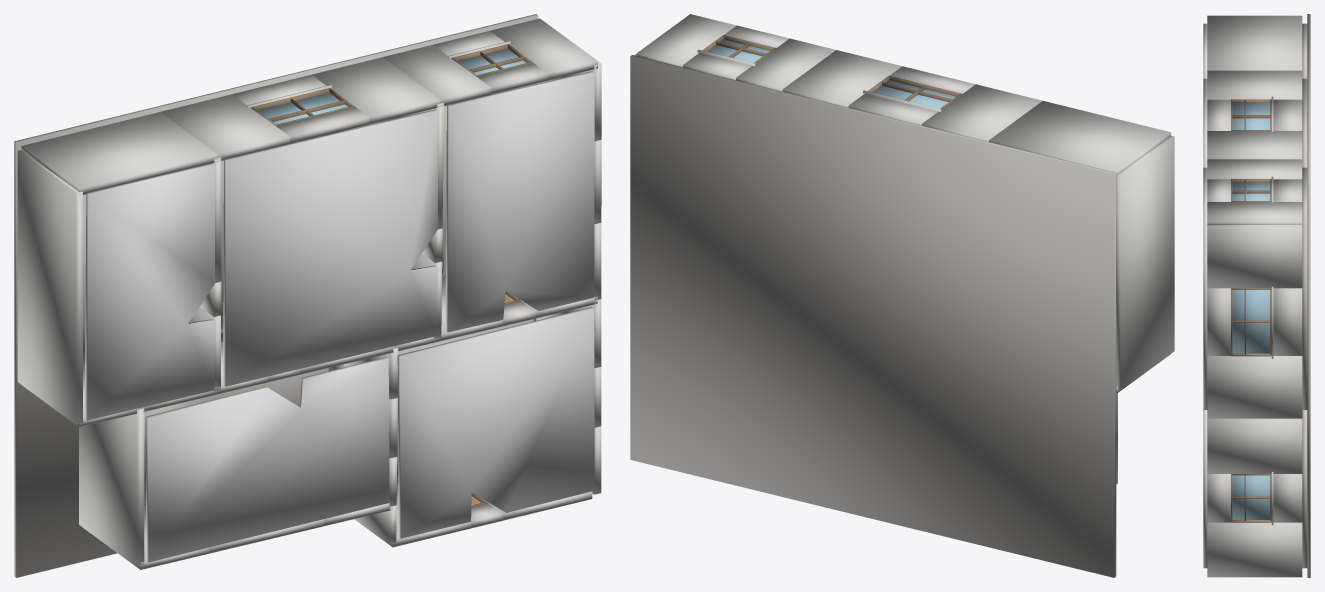
The model's file is blueprint4_scene.glb.
The picture shows the model from 3 angles, left to right: view 1: azimuth 30°, elevation 25°; view 2: azimuth 150°, elevation 25°; view 3: azimuth 270°, elevation 25°; orthographic projection. The views are drawn at different scales.
Parts seen in each view (by area): view 1: Ceilings, Walls, Plinth, Lintels, Floors, WindowGlasses, WindowFrames, WindowMullions; view 2: Plinth, Walls, Lintels, WindowGlasses, WindowFrames, WindowMullions; view 3: Walls, WindowGlasses, Lintels, Floors, Ceilings, Plinth, WindowFrames, WindowMullions, WindowSills.
Boxes of the visible parts, bbox=[...] form: Ceilings: bbox=[84, 71, 594, 562]; Walls: bbox=[17, 18, 601, 569]; Plinth: bbox=[14, 14, 538, 577]; Lintels: bbox=[200, 63, 601, 553]; Floors: bbox=[83, 84, 533, 504]; WindowGlasses: bbox=[257, 49, 526, 124]; WindowFrames: bbox=[250, 44, 532, 125]; WindowMullions: bbox=[269, 52, 523, 121]; Plinth: bbox=[630, 55, 1116, 577]; Walls: bbox=[634, 14, 1174, 484]; Lintels: bbox=[724, 25, 975, 93]; WindowGlasses: bbox=[707, 39, 955, 108]; WindowFrames: bbox=[702, 35, 961, 109]; WindowMullions: bbox=[716, 41, 952, 101]; Walls: bbox=[1207, 15, 1302, 577]; WindowGlasses: bbox=[1232, 103, 1270, 519]; Lintels: bbox=[1207, 99, 1230, 522]; Floors: bbox=[1302, 23, 1307, 568]; Ceilings: bbox=[1203, 23, 1207, 568]; Plinth: bbox=[1307, 14, 1310, 577]; WindowFrames: bbox=[1231, 99, 1271, 522]; WindowMullions: bbox=[1232, 100, 1270, 521]; WindowSills: bbox=[1271, 96, 1273, 525].
Size of the model in its own units: 14.71 by 11.69 by 3.17.
